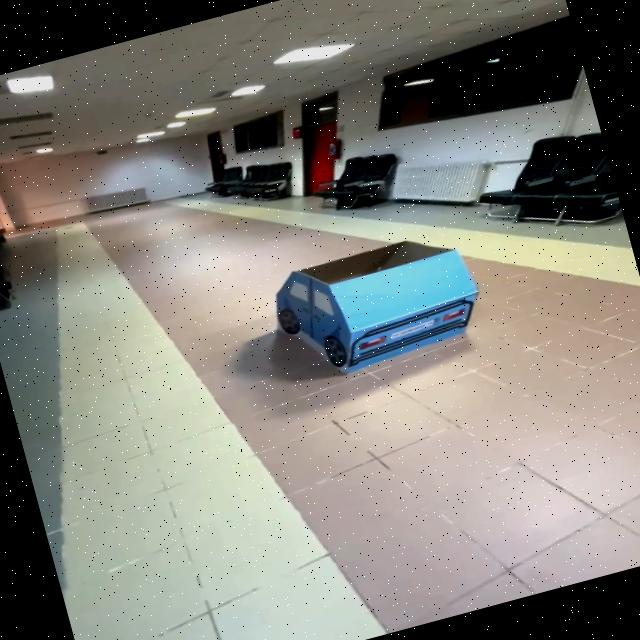blue_car: (229, 202, 516, 408)
